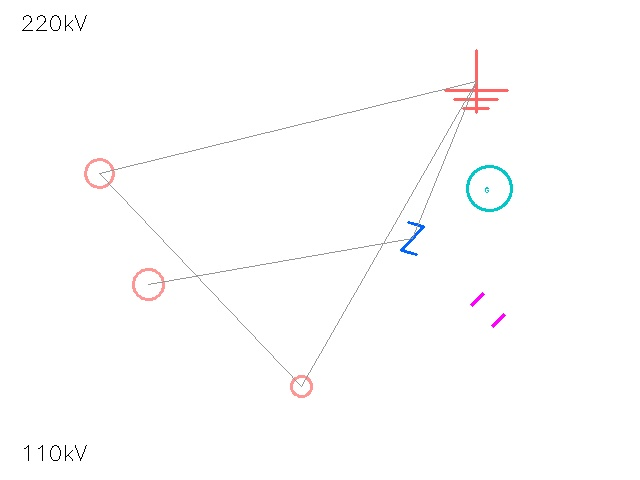capacitor: (463, 285, 513, 335)
circuit_breaker: (396, 222, 428, 254)
current_transformer: (71, 145, 127, 201)
disconnect_switch: (117, 253, 179, 315)
fuse: (281, 366, 321, 406)
generator: (467, 166, 511, 210)
ground: (445, 50, 507, 112)
